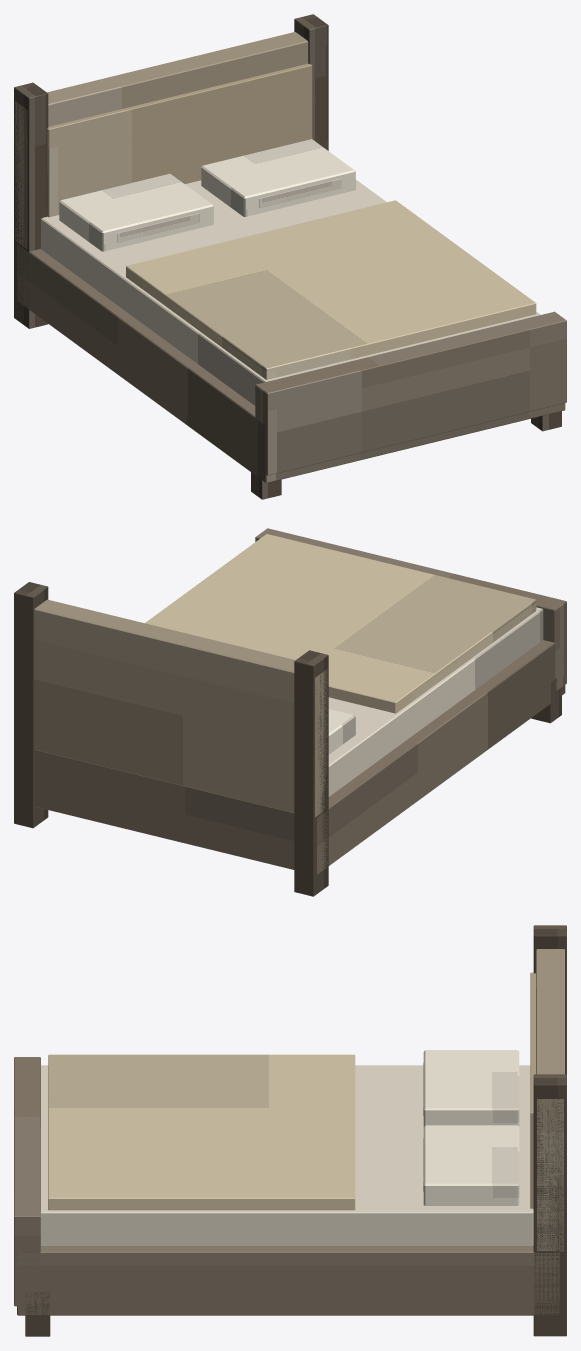
The model's file is double_bed_ivory.glb.
3 renders of one model, top to bottom at view 1: azimuth 30°, elevation 25°; view 2: azimuth 150°, elevation 25°; view 3: azimuth 270°, elevation 25°, orthographic. The views are drawn at different scales.
Parts seen in each view (by area): view 1: Blanket, Footboard, HeadboardInset, BedFrame, Mattress, HeadboardPanel, Pillow_1, Pillow_2, HeadPostL, HeadPostR, PillowBand_1, PillowBand_2; view 2: HeadboardPanel, Blanket, BedFrame, Mattress, HeadPostL, HeadPostR, Footboard, Pillow_1, FootL; view 3: Blanket, BedFrame, Mattress, Pillow_2, HeadboardPanel, HeadPostR, Pillow_1, Footboard, HeadboardInset, HeadPostL, FootR.
Part boxes in pixels (<box>): Blanket: <box>126,200,536,379</box>; Footboard: <box>255,311,566,475</box>; HeadboardInset: <box>47,63,312,217</box>; BedFrame: <box>17,244,565,483</box>; Mattress: <box>41,179,540,405</box>; HeadboardPanel: <box>15,32,308,249</box>; Pillow_1: <box>59,173,213,251</box>; Pillow_2: <box>201,139,355,216</box>; HeadPostL: <box>14,82,48,328</box>; HeadPostR: <box>294,14,328,150</box>; PillowBand_1: <box>117,213,199,242</box>; PillowBand_2: <box>259,178,341,207</box>; HeadboardPanel: <box>34,599,327,817</box>; Blanket: <box>145,534,536,713</box>; BedFrame: <box>36,640,565,874</box>; Mattress: <box>328,607,543,796</box>; HeadPostL: <box>294,650,328,896</box>; HeadPostR: <box>14,582,48,828</box>; Footboard: <box>255,528,566,690</box>; Pillow_1: <box>328,709,355,754</box>; FootL: <box>531,678,561,723</box>; Blanket: <box>48,1054,355,1210</box>; BedFrame: <box>17,1245,559,1315</box>; Mattress: <box>41,1065,533,1245</box>; Pillow_2: <box>423,1125,519,1205</box>; HeadboardPanel: <box>536,949,564,1251</box>; HeadPostR: <box>533,1074,566,1336</box>; Pillow_1: <box>423,1050,519,1126</box>; Footboard: <box>14,1057,40,1306</box>; HeadboardInset: <box>530,972,535,1209</box>; HeadPostL: <box>533,925,566,1074</box>; FootR: <box>25,1292,50,1336</box>.
Size of the model in its own units: 1.82 by 1.34 by 2.66.
Materials: 1 (1 with a texture image).
